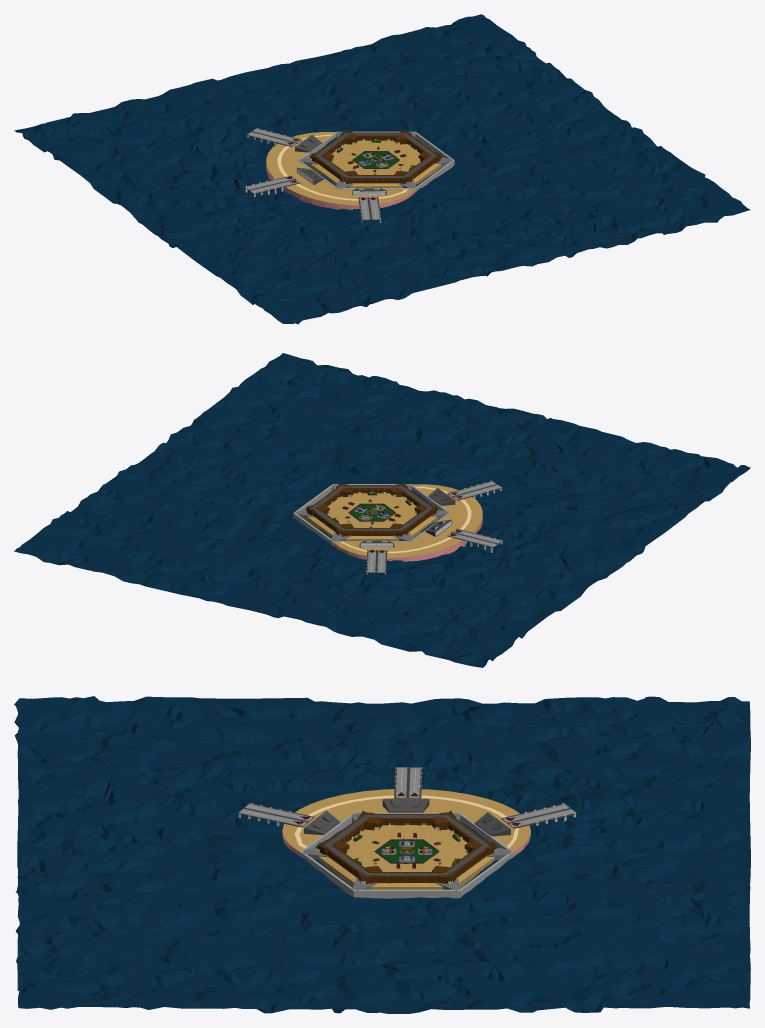
Rendered from Map.fbx.
3 views of the same model, one above another, from view 1: azimuth 30°, elevation 25°; view 2: azimuth 150°, elevation 25°; view 3: azimuth 270°, elevation 25° (orthographic). The views are drawn at different scales.
Parts seen in each view (by area): view 1: Plane, Circle, Circle.004, Circle.001, Circle.007, Plane.007, Plane.012; view 2: Plane, Circle, Circle.004, Circle.001, Circle.007, Plane.007, Plane.008; view 3: Plane, Circle.004, Circle, Circle.001, Circle.007, Plane.008, Plane.012, Plane.007, Circle.003, Cylinder.014.
Part boxes in pixels (x1,y1,x2,y2): Plane: [14, 14, 750, 324]; Circle: [266, 132, 415, 210]; Circle.004: [299, 131, 452, 188]; Circle.001: [310, 131, 442, 183]; Circle.007: [297, 131, 454, 191]; Plane.007: [244, 175, 300, 197]; Plane.012: [246, 128, 301, 146]; Plane: [14, 353, 750, 667]; Circle: [333, 484, 482, 561]; Circle.004: [295, 484, 448, 541]; Circle.001: [306, 483, 438, 536]; Circle.007: [293, 484, 450, 545]; Plane.007: [447, 529, 503, 552]; Plane.008: [447, 480, 502, 500]; Plane: [14, 696, 750, 1013]; Circle.004: [303, 812, 511, 890]; Circle: [282, 789, 530, 856]; Circle.001: [317, 812, 496, 883]; Circle.007: [300, 812, 513, 898]; Plane.008: [237, 803, 314, 827]; Plane.012: [501, 803, 577, 828]; Plane.007: [394, 767, 422, 798]; Circle.003: [374, 839, 439, 863]; Cylinder.014: [382, 799, 429, 812].
Size of the model in its own units: 6940 by 539 by 6895.
Materials: 10 (10 with a texture image).
